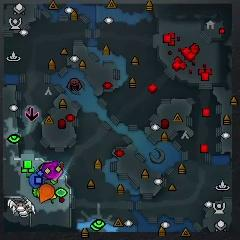p1: (30, 173, 42, 188)
p3: (42, 161, 58, 178)
p5: (40, 184, 54, 203)
x1: (53, 170, 62, 182)
x1Clone: (25, 108, 39, 122)
